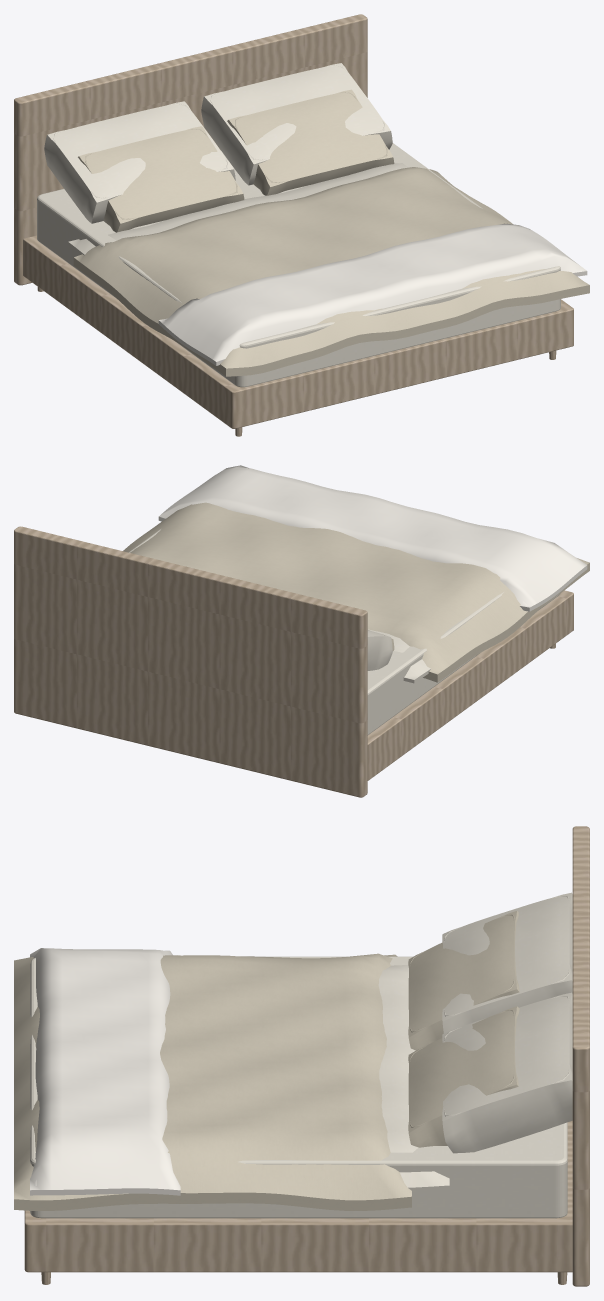
The model's file is kowhai-hero-bed-01.glb.
3 renders of one model, top to bottom at view 1: azimuth 30°, elevation 25°; view 2: azimuth 150°, elevation 25°; view 3: azimuth 270°, elevation 25°, orthographic. The views are drawn at different scales.
Visible parts, largest first — view 1: SubPart (×6), Bed_DrapedFlaxDuvet, Bed_MerinoFootThrow, Bed_PocketSpringMattress, Bed_TurnDownSheet; view 2: SubPart (×3), Bed_DrapedFlaxDuvet, Bed_MerinoFootThrow, Bed_PocketSpringMattress, Bed_TurnDownSheet; view 3: SubPart (×6), Bed_DrapedFlaxDuvet, Bed_MerinoFootThrow, Bed_PocketSpringMattress, Bed_TurnDownSheet.
Boxes of the visible parts, box(x1,y1,x2,y2) form: SubPart (×6): box(14, 14, 573, 428); Bed_DrapedFlaxDuvet: box(73, 167, 589, 376); Bed_MerinoFootThrow: box(158, 223, 587, 365); Bed_PocketSpringMattress: box(37, 143, 560, 387); Bed_TurnDownSheet: box(68, 163, 407, 255); SubPart (×3): box(14, 526, 573, 797); Bed_DrapedFlaxDuvet: box(123, 502, 589, 682); Bed_MerinoFootThrow: box(158, 465, 587, 611); Bed_PocketSpringMattress: box(129, 529, 560, 735); Bed_TurnDownSheet: box(368, 629, 430, 683); SubPart (×6): box(24, 826, 589, 1286); Bed_DrapedFlaxDuvet: box(14, 953, 411, 1210); Bed_MerinoFootThrow: box(30, 948, 180, 1195); Bed_PocketSpringMattress: box(30, 956, 567, 1218); Bed_TurnDownSheet: box(378, 965, 449, 1191).
Bounding box in the file's own units: 2.08 × 1.01 × 2.14.
Materials: 5 (4 with a texture image).
